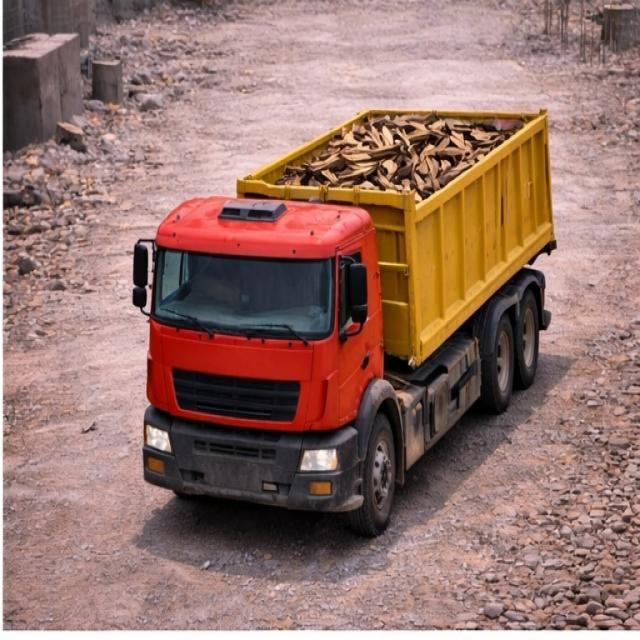trailer: (241, 114, 544, 192)
truck: (126, 109, 554, 535)
